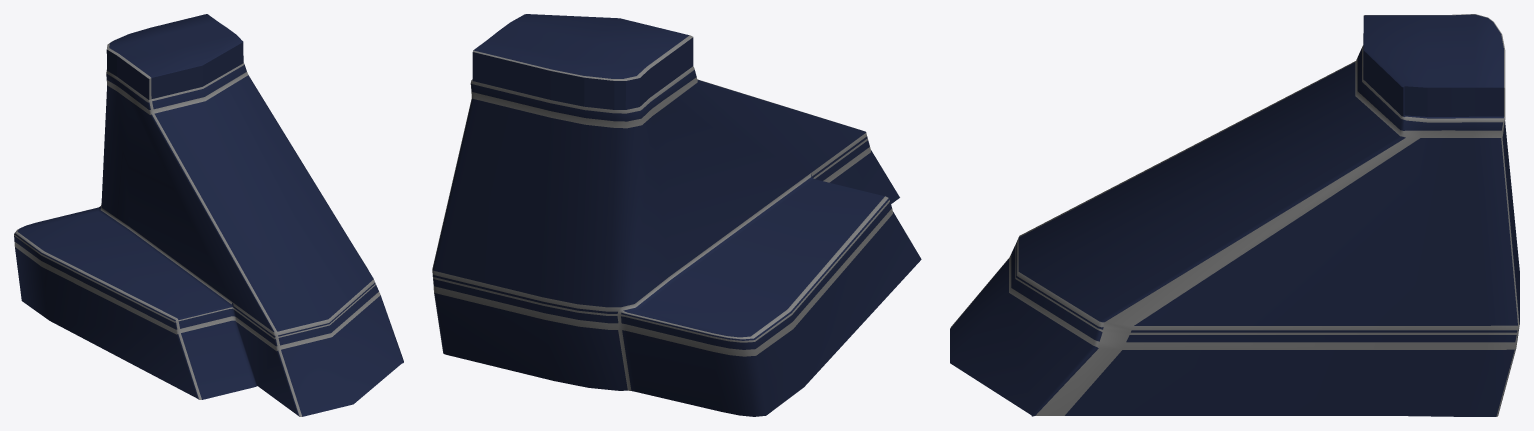
Rendered from Pillar_00.fbx.
The picture shows the model from 3 angles, left to right: view 1: azimuth 30°, elevation 25°; view 2: azimuth 150°, elevation 25°; view 3: azimuth 270°, elevation 25°; orthographic projection. The views are drawn at different scales.
Parts seen in each view (by area): view 1: Pillar_00; view 2: Pillar_00; view 3: Pillar_00.
Part boxes in pixels (x1,y1,x2,y2): Pillar_00: [14, 14, 403, 416]; Pillar_00: [432, 14, 921, 416]; Pillar_00: [950, 14, 1519, 416].
Size of the model in its own units: 451 by 439 by 723.
